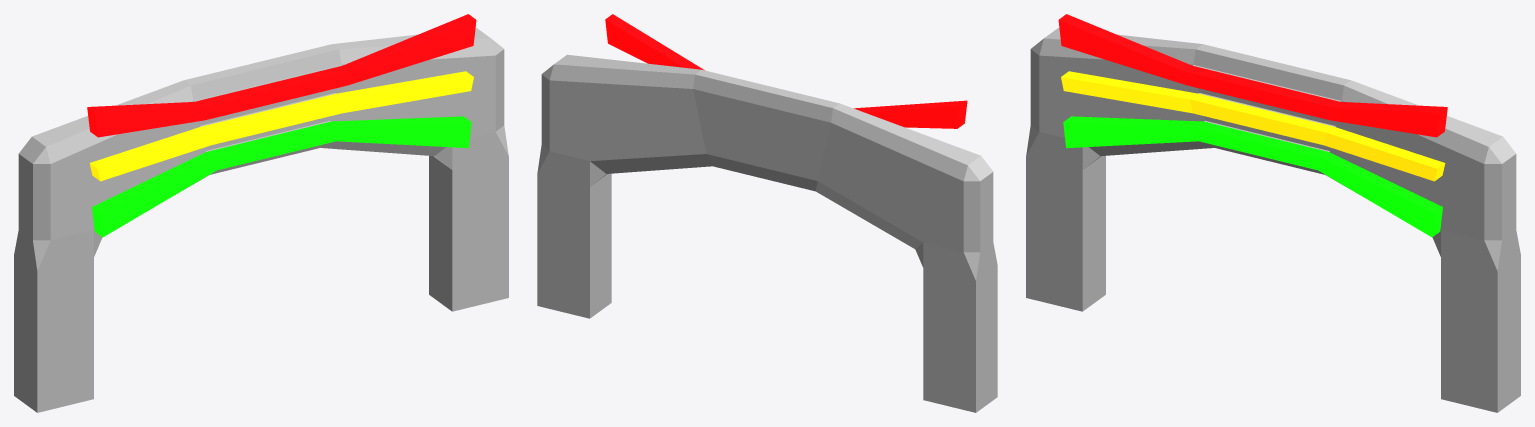
The model's file is Start.fbx.
3 views of the same model, side by side, from view 1: azimuth 30°, elevation 25°; view 2: azimuth 150°, elevation 25°; view 3: azimuth 330°, elevation 25° (orthographic). The views are drawn at different scales.
Visible parts, largest first — view 1: FinishGate; view 2: FinishGate; view 3: FinishGate.
Boxes of the visible parts, x1,y1,x2,y2 form: FinishGate: [14, 14, 508, 412]; FinishGate: [537, 14, 997, 412]; FinishGate: [1026, 14, 1520, 412].
Bounding box in the file's own units: 119 × 72.23 × 15.79.
